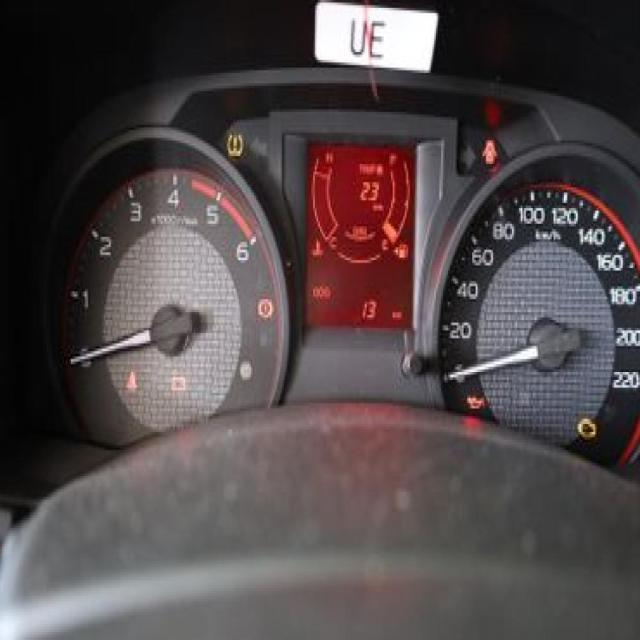Seat Belt: (124, 370, 138, 392)
